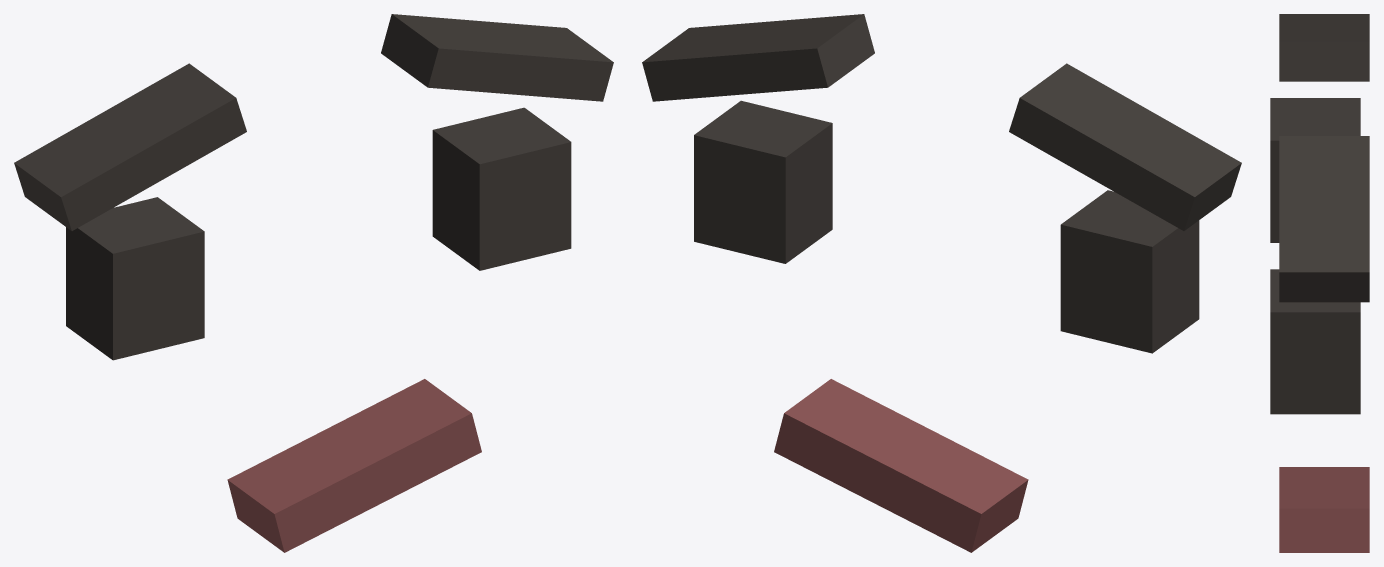
File: av_face_cool.glb
3 renders of one model, left to right at view 1: azimuth 30°, elevation 25°; view 2: azimuth 150°, elevation 25°; view 3: azimuth 270°, elevation 25°, orthographic. The views are drawn at different scales.
Bounding box in the file's own units: 0.2713 × 0.219 × 0.044.
